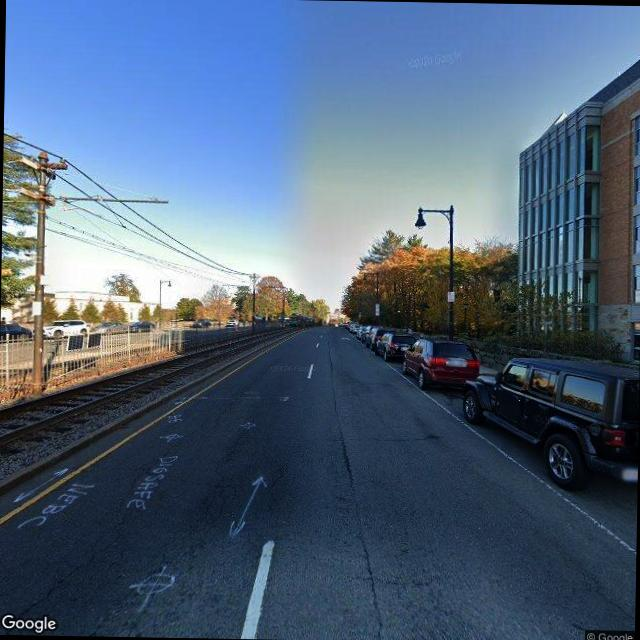crack: (350, 527, 389, 640), (341, 428, 441, 448), (266, 458, 289, 493)
